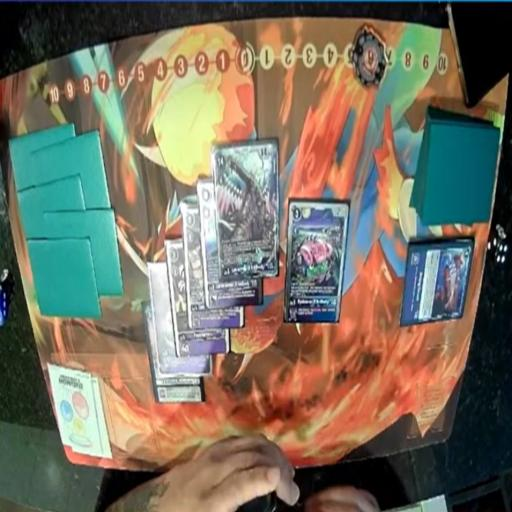card: (217, 134, 283, 284), (182, 201, 248, 331), (202, 178, 264, 312), (142, 292, 208, 412), (287, 195, 347, 326), (164, 236, 228, 354), (148, 264, 213, 376), (403, 235, 476, 326)
